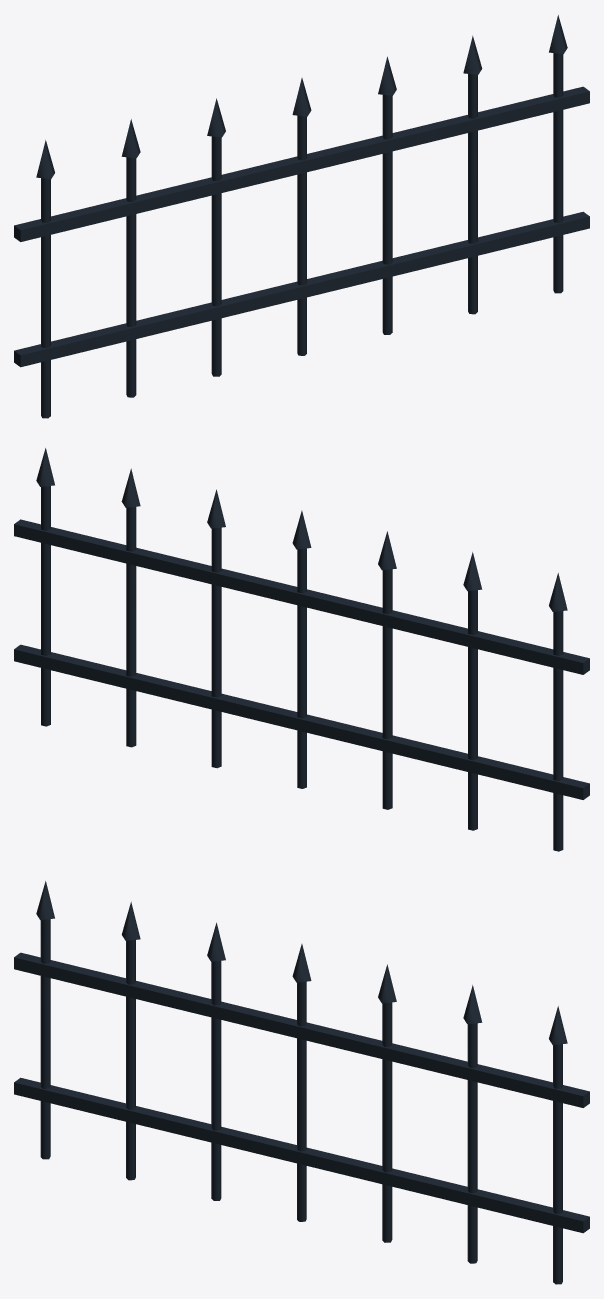
The model's file is iron_fence.glb.
3 views of the same model, one above another, from view 1: azimuth 30°, elevation 25°; view 2: azimuth 150°, elevation 25°; view 3: azimuth 330°, elevation 25° (orthographic).
Size of the model in its own units: 3 by 1.4 by 0.1.
